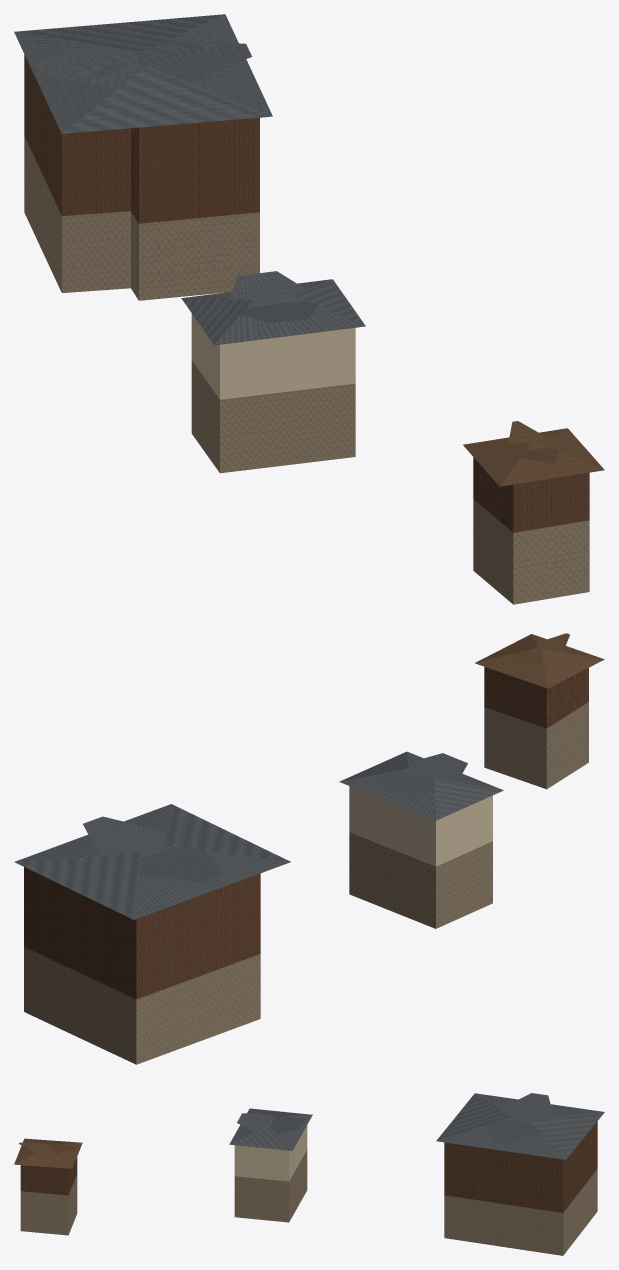
The model's file is bld_c1_11_489.gltf.
3 renders of one model, top to bottom at view 1: azimuth 30°, elevation 25°; view 2: azimuth 150°, elevation 25°; view 3: azimuth 270°, elevation 25°, orthographic. The views are drawn at different scales.
Visible parts, largest first — view 1: bld_c1_11_489; view 2: bld_c1_11_489; view 3: bld_c1_11_489.
Part boxes in pixels (x1=…): bld_c1_11_489: x1=14, y1=14, x2=604, y2=604; bld_c1_11_489: x1=14, y1=633, x2=604, y2=1064; bld_c1_11_489: x1=14, y1=1093, x2=604, y2=1255.
Size of the model in its own units: 20.44 by 13.5 by 63.66.
5 materials, 5 textured.
